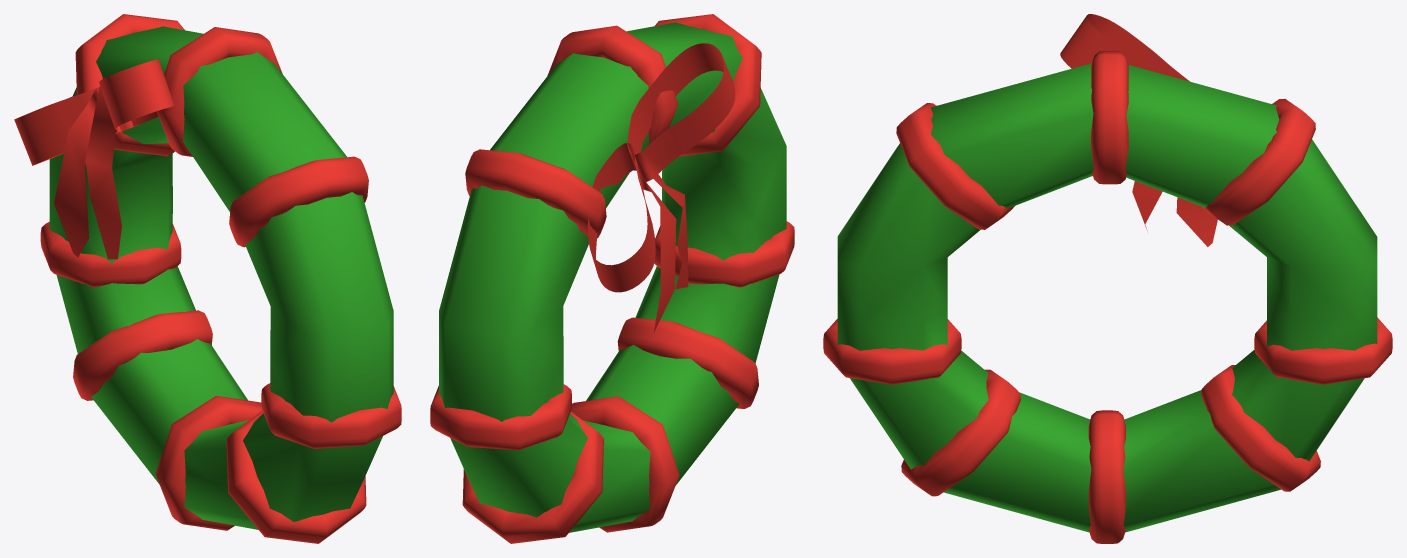
The model's file is Wreather.fbx.
3 views of the same model, side by side, from view 1: azimuth 30°, elevation 25°; view 2: azimuth 150°, elevation 25°; view 3: azimuth 270°, elevation 25° (orthographic). The views are drawn at different scales.
Visible parts, largest first — view 1: Cube; view 2: Cube; view 3: Cube.
Boxes of the visible parts, left/top/right/bottom form: Cube: left=14, top=14, right=401, bottom=543; Cube: left=430, top=14, right=794, bottom=543; Cube: left=823, top=14, right=1392, bottom=543.
Size of the model in its own units: 399 by 1043 by 1110.
